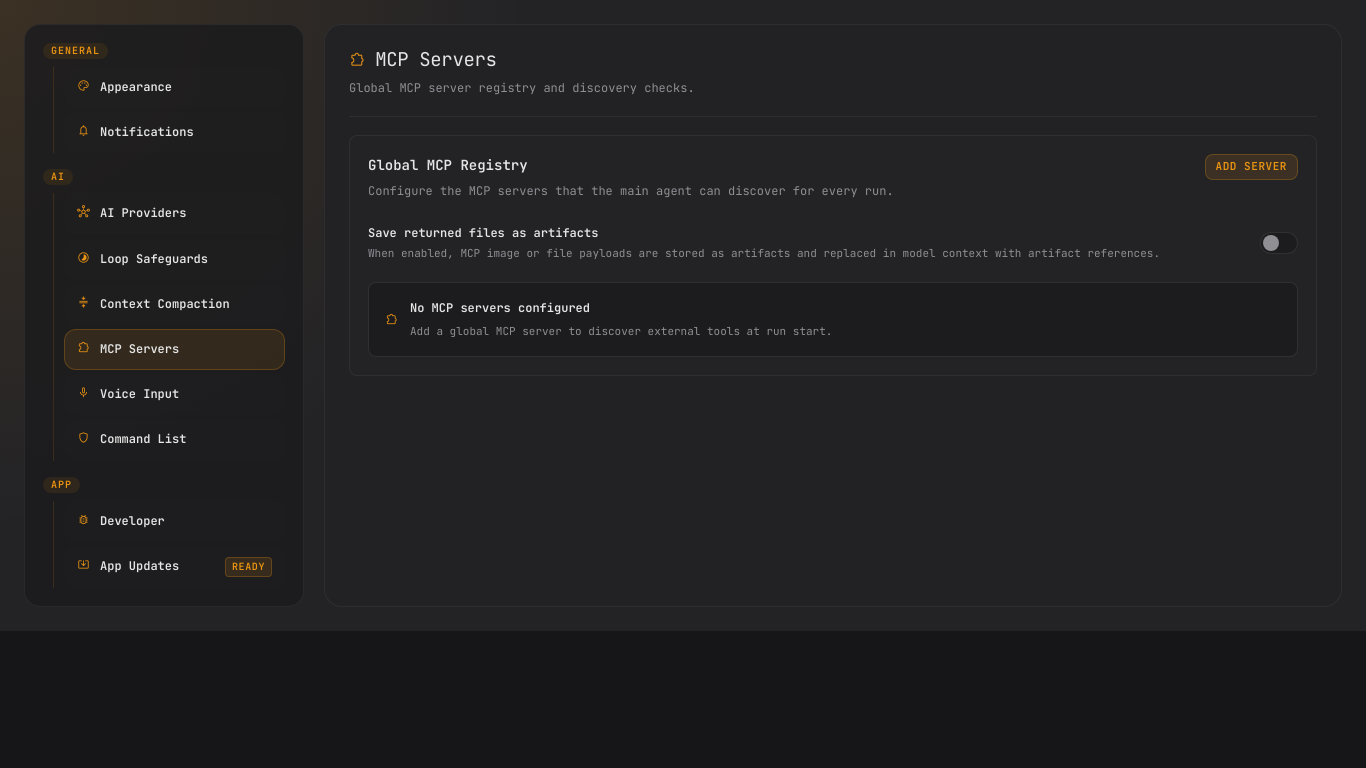
Scenario: SettingsPage › opens the MCP schema help modal from the inline help icon
This screenshot has width=1366, height=768.
Check: the heading "MCP Servers" is shown, box [375,49,496,71]
Click the button "Add Server". click: coordinates (1251, 167)
box: [1204,154,1298,180]
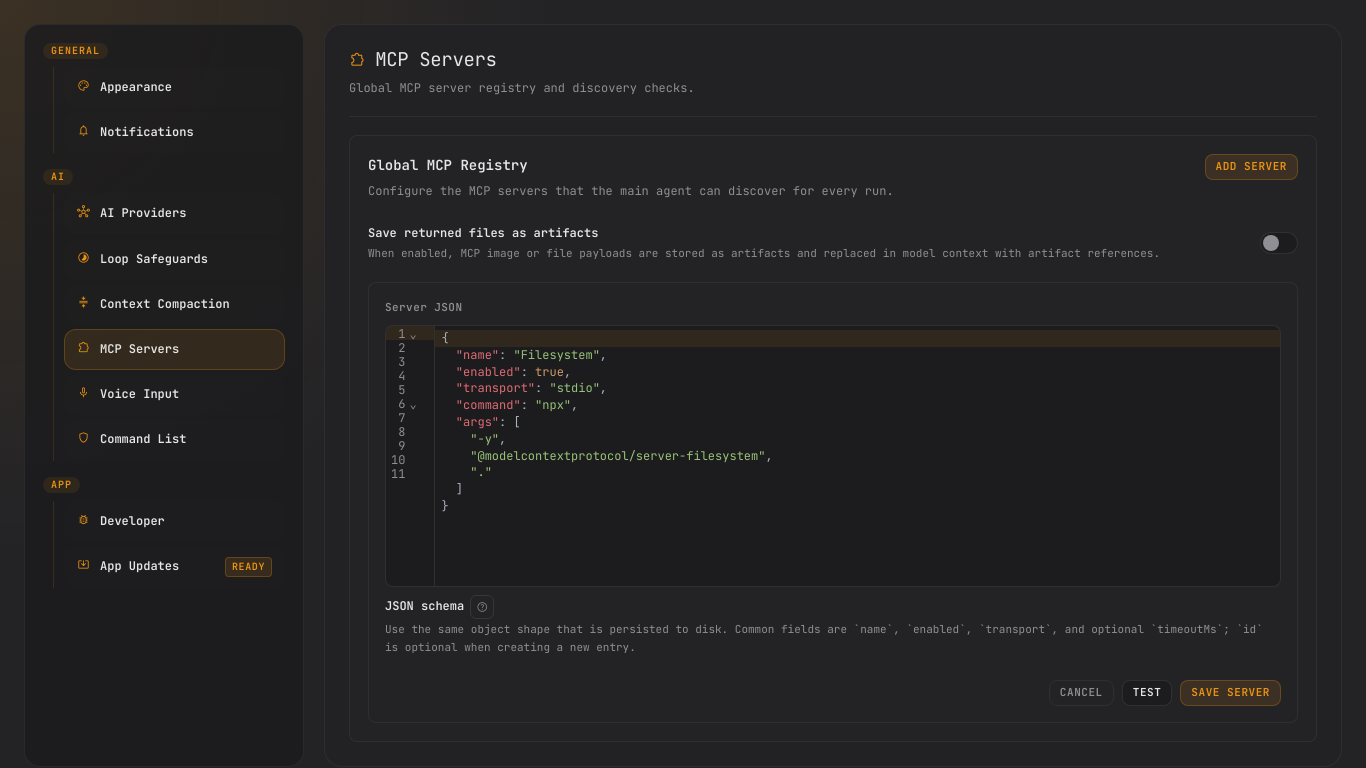
Click the button named "Open MCP JSON schema help". click: coordinates (482, 607)
box: [470,595,494,619]
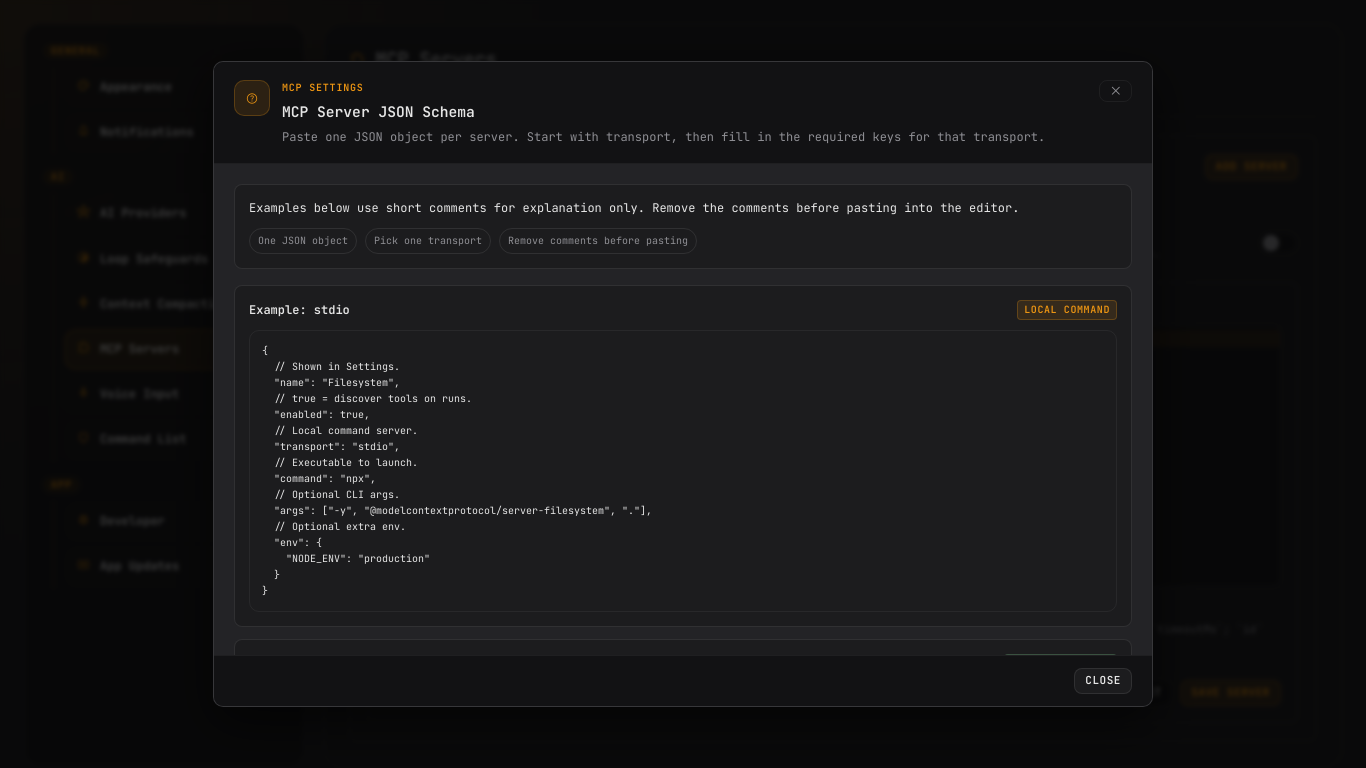
Check: the dialog "MCP Server JSON Schema" is shown
Check: the text "Remove comments before pasting" is shown, box [499,228,697,254]
Check: the text "Example: stdio" is shown, box [249,301,350,320]
